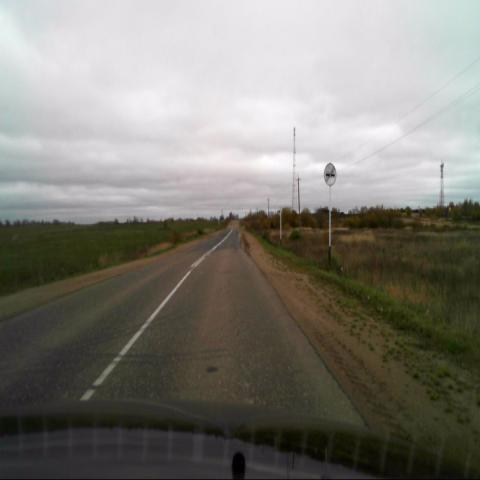3_21: (323, 162, 337, 187)
